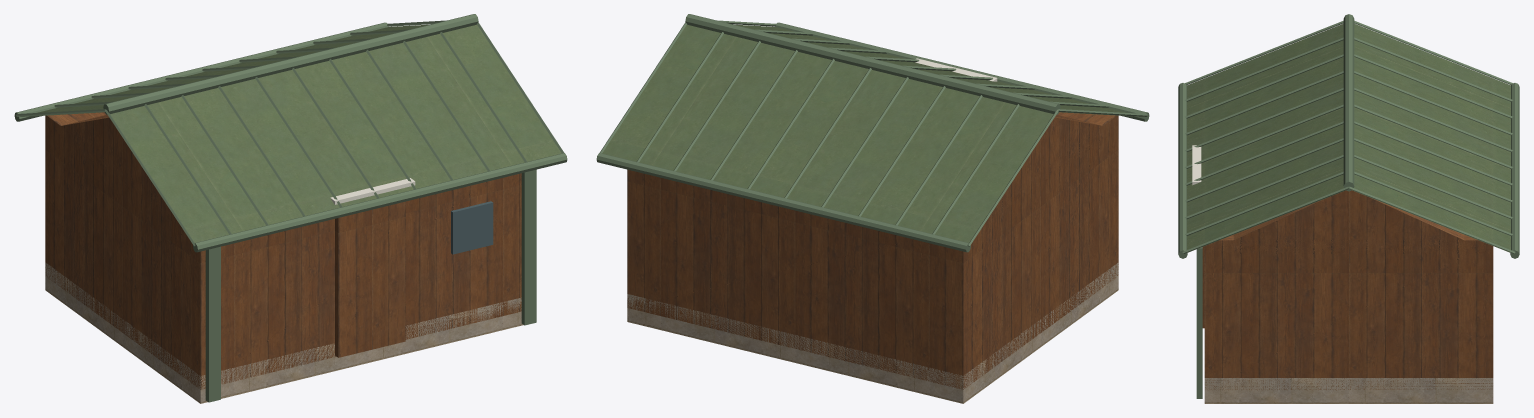
The model's file is shed.glb.
3 renders of one model, left to right at view 1: azimuth 30°, elevation 25°; view 2: azimuth 150°, elevation 25°; view 3: azimuth 270°, elevation 25°, orthographic. The views are drawn at different scales.
Parts seen in each view (by area): view 1: shed; view 2: shed; view 3: shed.
Boxes of the visible parts, box(x1,y1,x2,y2) form: shed: box(14, 14, 567, 403); shed: box(596, 14, 1149, 403); shed: box(1178, 14, 1519, 403).
Size of the model in its own units: 5.54 by 3.52 by 4.73.
6 materials, 3 textured.
